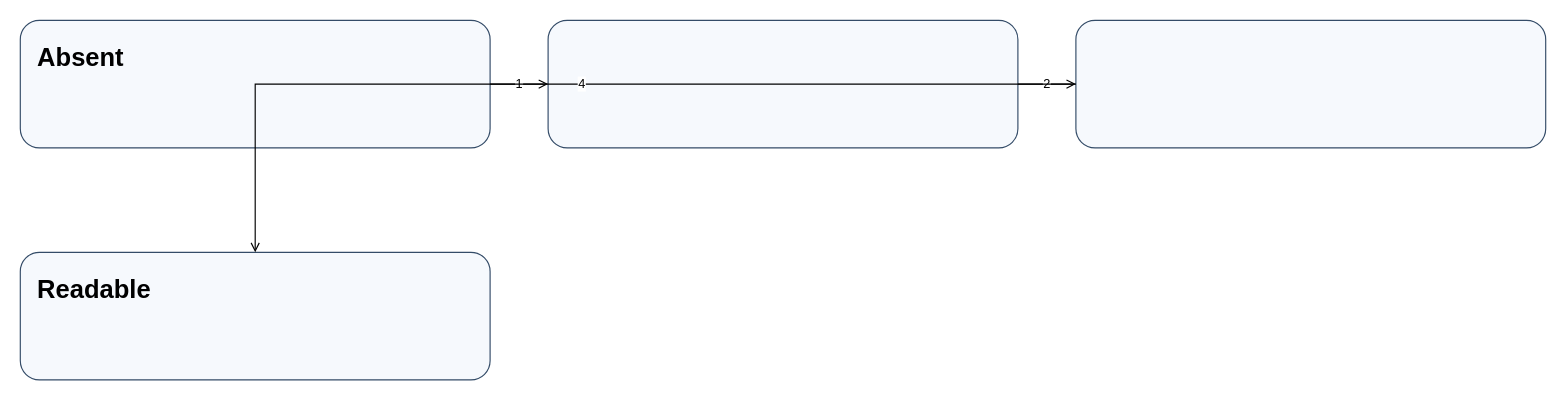
Some shapes in this 1566 by 400 pixel diagram are drawn without their labels. The shapes that lost their labels are listed below. From the top down, each one's box as (x1, y1, x2, y2) in pixels, then its label:
(547, 19, 1018, 148): MetadataStored
(1075, 19, 1546, 148): ChunksStored
